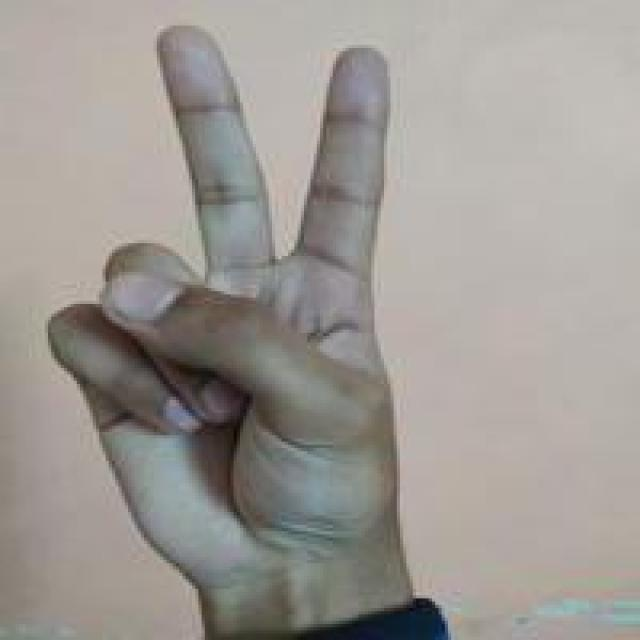V: (40, 18, 437, 587)
